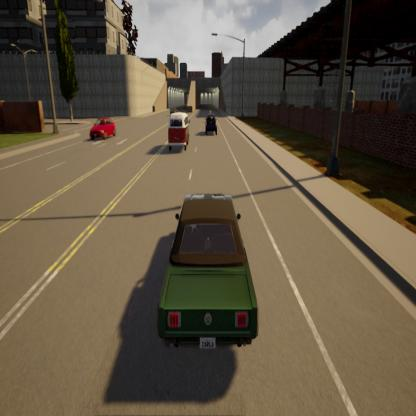Cars: (146, 152, 263, 358), (163, 99, 192, 151), (90, 116, 119, 150), (204, 111, 218, 138)
